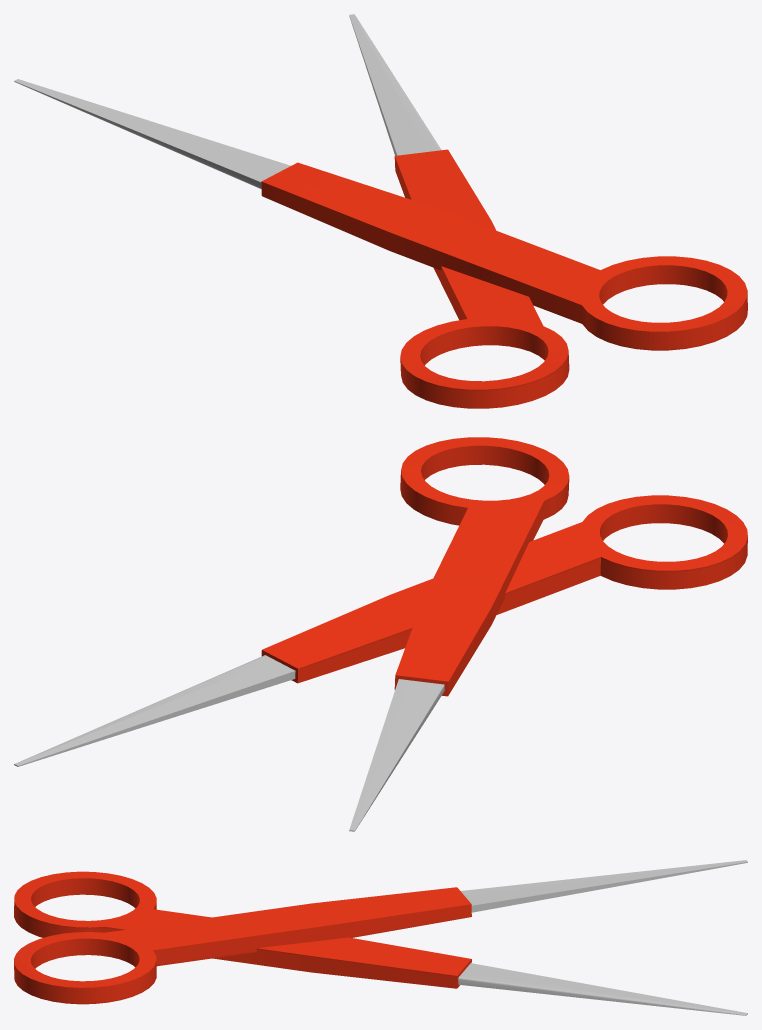
Rendered from NewScissor.fbx.
3 views of the same model, one above another, from view 1: azimuth 30°, elevation 25°; view 2: azimuth 150°, elevation 25°; view 3: azimuth 270°, elevation 25° (orthographic). The views are drawn at different scales.
Parts seen in each view (by area): view 1: Right.001, Right; view 2: Right, Right.001; view 3: Right.001, Right.
Part boxes in pixels (x1,y1,x2,y2): Right.001: (14,79,747,350); Right: (349,14,569,408); Right: (14,495,747,766); Right.001: (349,437,569,831); Right.001: (14,860,747,1004); Right: (14,871,747,1015).
Size of the model in its own units: 0.1751 by 0.02 by 0.3846.
Materials: 1 (1 with a texture image).
